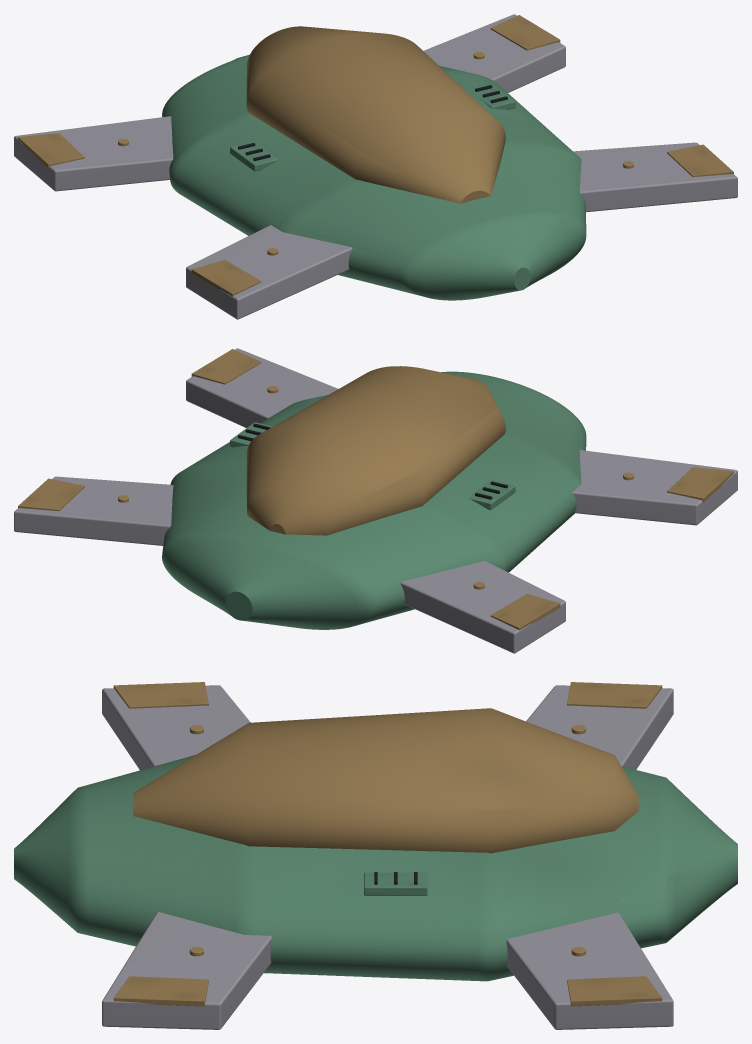
The picture shows the model from 3 angles, top to bottom: view 1: azimuth 30°, elevation 25°; view 2: azimuth 150°, elevation 25°; view 3: azimuth 270°, elevation 25°; orthographic projection. The views are drawn at different scales.
Visible parts, largest first — view 1: Lazzaro Research compact green hull, Lazzaro Research gold central crown, Lazzaro Research grey lobe -1 -1, Lazzaro Research grey lobe -1 1, Lazzaro Research grey lobe 1 -1, Lazzaro Research grey lobe 1 1, Lazzaro Research brown tip -1 -1, Lazzaro Research brown tip -1 1, Lazzaro Research brown tip 1 1, Lazzaro Research brown tip 1 -1, Lazzaro Research shoulder cover -1, Lazzaro Research shoulder cover 1; view 2: Lazzaro Research compact green hull, Lazzaro Research gold central crown, Lazzaro Research grey lobe -1 -1, Lazzaro Research grey lobe -1 1, Lazzaro Research grey lobe 1 1, Lazzaro Research grey lobe 1 -1, Lazzaro Research brown tip -1 1, Lazzaro Research brown tip -1 -1, Lazzaro Research brown tip 1 -1, Lazzaro Research brown tip 1 1, Lazzaro Research shoulder cover -1; view 3: Lazzaro Research compact green hull, Lazzaro Research gold central crown, Lazzaro Research grey lobe 1 -1, Lazzaro Research grey lobe 1 1, Lazzaro Research grey lobe -1 -1, Lazzaro Research grey lobe -1 1, Lazzaro Research brown tip 1 1, Lazzaro Research brown tip 1 -1, Lazzaro Research brown tip -1 -1, Lazzaro Research brown tip -1 1, Lazzaro Research shoulder cover 1.
Part boxes in pixels (x1=…): Lazzaro Research compact green hull: x1=162, y1=54, x2=586, y2=300; Lazzaro Research gold central crown: x1=246, y1=26, x2=505, y2=203; Lazzaro Research grey lobe -1 -1: x1=186, y1=225, x2=352, y2=319; Lazzaro Research grey lobe -1 1: x1=14, y1=116, x2=173, y2=191; Lazzaro Research grey lobe 1 -1: x1=573, y1=142, x2=737, y2=212; Lazzaro Research grey lobe 1 1: x1=423, y1=14, x2=565, y2=92; Lazzaro Research brown tip -1 -1: x1=191, y1=260, x2=261, y2=296; Lazzaro Research brown tip -1 1: x1=18, y1=133, x2=84, y2=168; Lazzaro Research brown tip 1 1: x1=490, y1=15, x2=560, y2=50; Lazzaro Research brown tip 1 -1: x1=667, y1=144, x2=733, y2=176; Lazzaro Research shoulder cover -1: x1=230, y1=141, x2=278, y2=171; Lazzaro Research shoulder cover 1: x1=468, y1=83, x2=515, y2=109; Lazzaro Research compact green hull: x1=162, y1=371, x2=586, y2=629; Lazzaro Research gold central crown: x1=246, y1=366, x2=505, y2=535; Lazzaro Research grey lobe -1 -1: x1=572, y1=450, x2=737, y2=525; Lazzaro Research grey lobe -1 1: x1=400, y1=561, x2=565, y2=653; Lazzaro Research grey lobe 1 1: x1=14, y1=476, x2=173, y2=545; Lazzaro Research grey lobe 1 -1: x1=186, y1=348, x2=338, y2=427; Lazzaro Research brown tip -1 1: x1=490, y1=594, x2=560, y2=630; Lazzaro Research brown tip -1 -1: x1=667, y1=467, x2=733, y2=502; Lazzaro Research brown tip 1 -1: x1=191, y1=349, x2=261, y2=384; Lazzaro Research brown tip 1 1: x1=18, y1=478, x2=84, y2=510; Lazzaro Research shoulder cover -1: x1=468, y1=480, x2=515, y2=510; Lazzaro Research compact green hull: x1=14, y1=755, x2=737, y2=981; Lazzaro Research gold central crown: x1=133, y1=708, x2=638, y2=853; Lazzaro Research grey lobe 1 -1: x1=102, y1=912, x2=271, y2=1029; Lazzaro Research grey lobe 1 1: x1=506, y1=912, x2=673, y2=1029; Lazzaro Research grey lobe -1 -1: x1=102, y1=685, x2=250, y2=770; Lazzaro Research grey lobe -1 1: x1=526, y1=685, x2=673, y2=769; Lazzaro Research brown tip 1 1: x1=567, y1=976, x2=662, y2=1006; Lazzaro Research brown tip 1 -1: x1=113, y1=976, x2=208, y2=1006; Lazzaro Research brown tip -1 -1: x1=113, y1=682, x2=208, y2=708; Lazzaro Research brown tip -1 1: x1=567, y1=682, x2=662, y2=708; Lazzaro Research shoulder cover 1: x1=364, y1=872, x2=427, y2=895.
Size of the model in its own units: 1.9 by 0.54 by 1.82.
5 materials, 2 textured.
